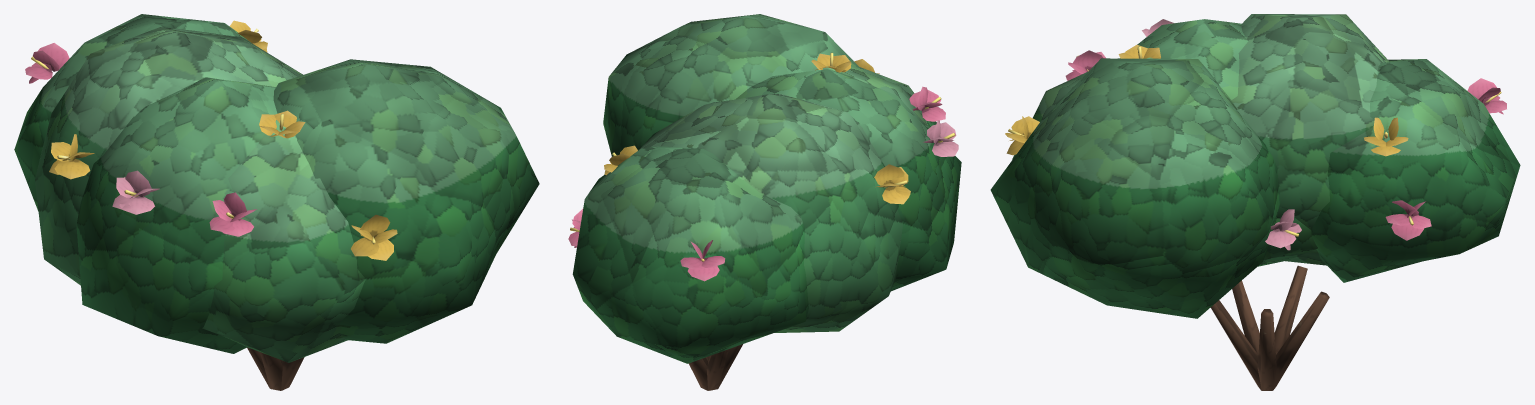
The model's file is hibiscus_b.glb.
The picture shows the model from 3 angles, left to right: view 1: azimuth 30°, elevation 25°; view 2: azimuth 150°, elevation 25°; view 3: azimuth 270°, elevation 25°; orthographic projection. The views are drawn at different scales.
Parts seen in each view (by area): view 1: Hibiscus_leaf, HibiscusFlowers; view 2: Hibiscus_leaf, HibiscusFlowers; view 3: Hibiscus_leaf, HibiscusFlowers.
Part boxes in pixels (x1,y1,x2,y2): Hibiscus_leaf: (14,14,539,390); HibiscusFlowers: (25,20,397,260); Hibiscus_leaf: (572,14,961,390); HibiscusFlowers: (568,52,958,281); Hibiscus_leaf: (990,14,1520,390); HibiscusFlowers: (1005,19,1506,250).
Bounding box in the file's own units: 1.4 × 1.21 × 1.76.
Materials: 1 (1 with a texture image).
